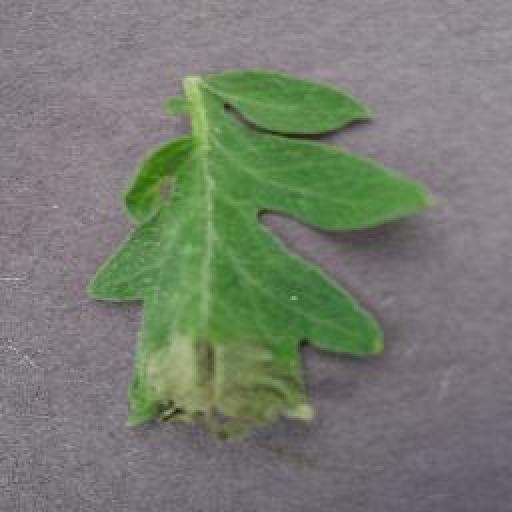Late Blight: (85, 71, 440, 440)
